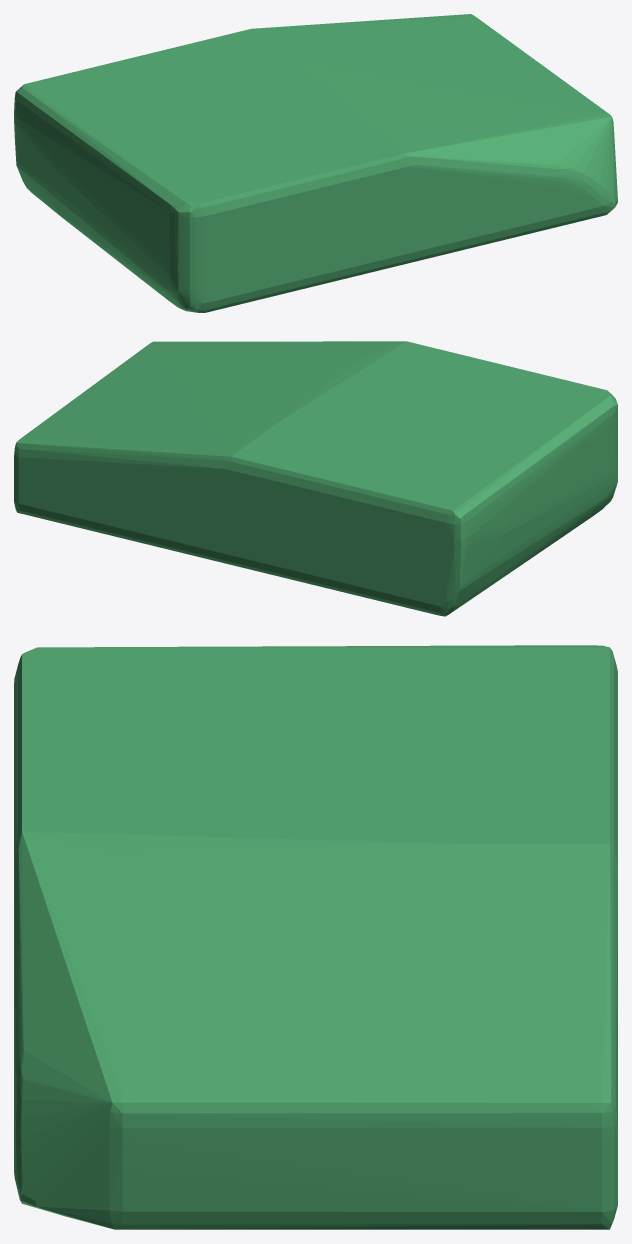
Rendered from left-tarsus-0_part_3.obj.
The picture shows the model from 3 angles, top to bottom: view 1: azimuth 30°, elevation 25°; view 2: azimuth 150°, elevation 25°; view 3: azimuth 270°, elevation 25°; orthographic projection. The views are drawn at different scales.
Bounding box in the file's own units: 0.1138 × 0.0261 × 0.0727.
